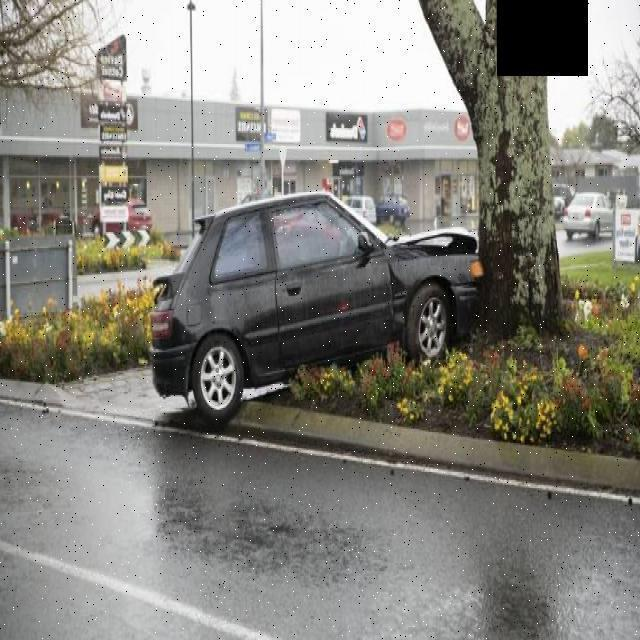car Accident hiting a tree: (358, 176, 524, 339)
